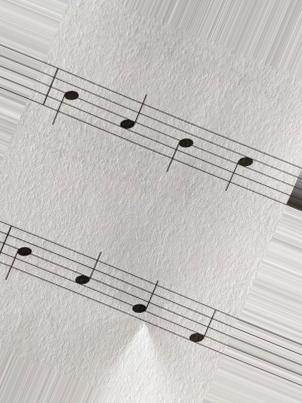note: (219, 134, 258, 198), (114, 88, 151, 153), (122, 269, 160, 331), (48, 62, 83, 127), (161, 113, 197, 176), (184, 296, 221, 355), (4, 223, 36, 289), (71, 247, 103, 306)
